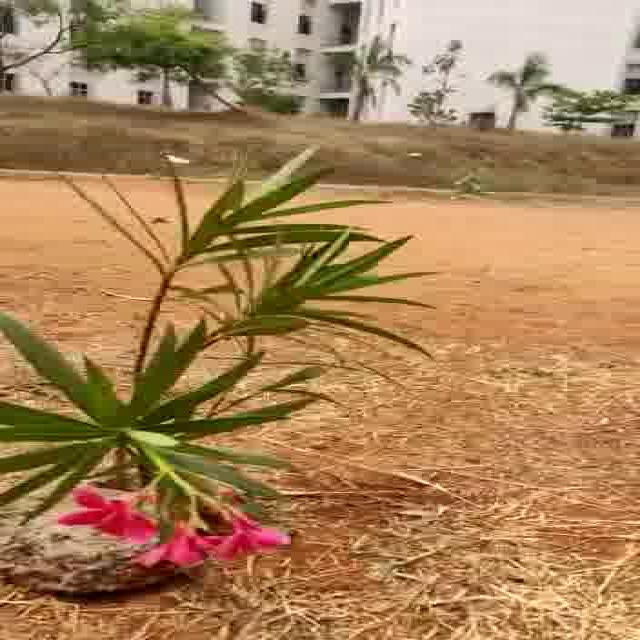OLEANDER: (16, 126, 455, 522)
